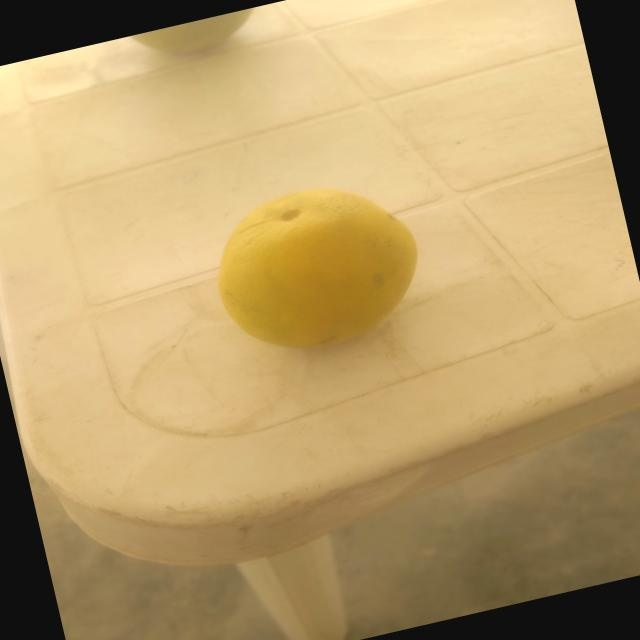agrume: (178, 142, 454, 396)
